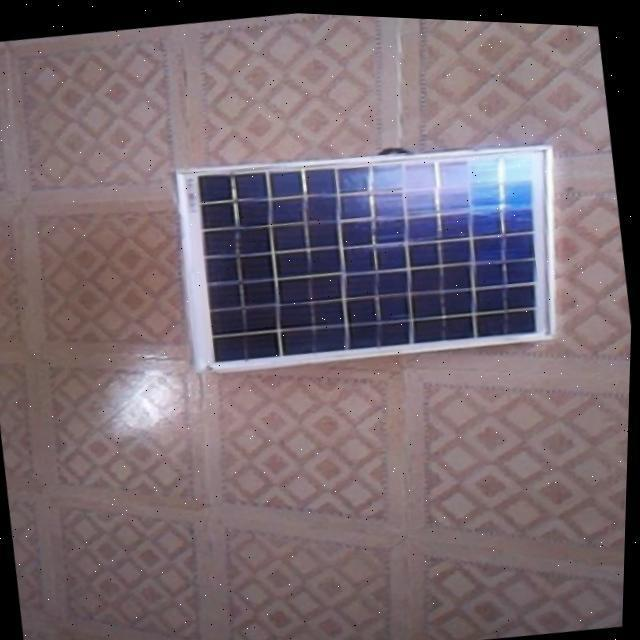Normal Solar Panel: (167, 116, 579, 384)
